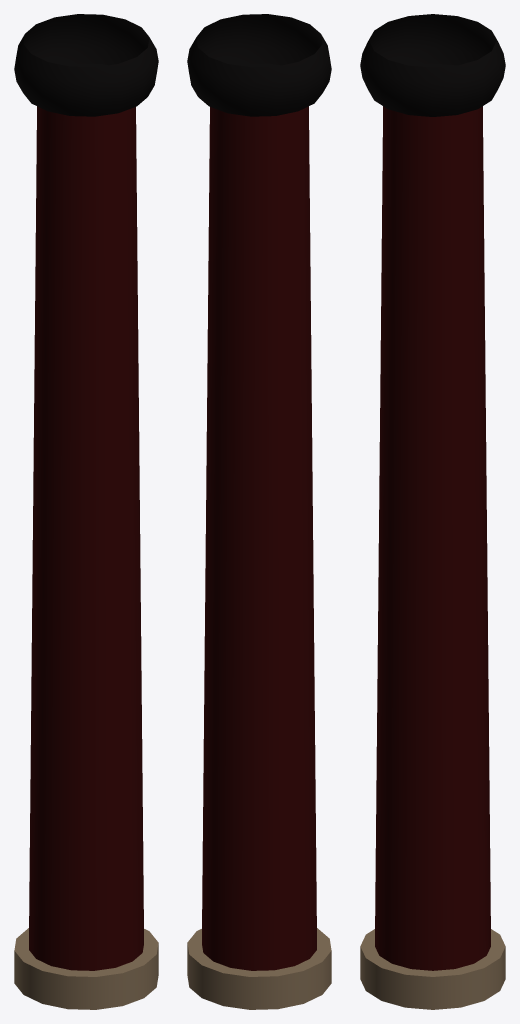
Rendered from pillar.FBX.
The picture shows the model from 3 angles, left to right: view 1: azimuth 30°, elevation 25°; view 2: azimuth 150°, elevation 25°; view 3: azimuth 270°, elevation 25°; orthographic projection.
Visible parts, largest first — view 1: pillar, pillar_top, pillar_base; view 2: pillar, pillar_top, pillar_base; view 3: pillar, pillar_top, pillar_base.
Part boxes in pixels (x1,y1,x2,y2): pillar: [29, 106, 143, 970]; pillar_top: [14, 14, 158, 116]; pillar_base: [14, 928, 158, 1009]; pillar: [202, 106, 316, 970]; pillar_top: [187, 14, 331, 116]; pillar_base: [187, 928, 331, 1009]; pillar: [375, 106, 490, 970]; pillar_top: [360, 14, 505, 116]; pillar_base: [360, 929, 505, 1009].
Size of the model in its own units: 51.19 by 364 by 51.19.
